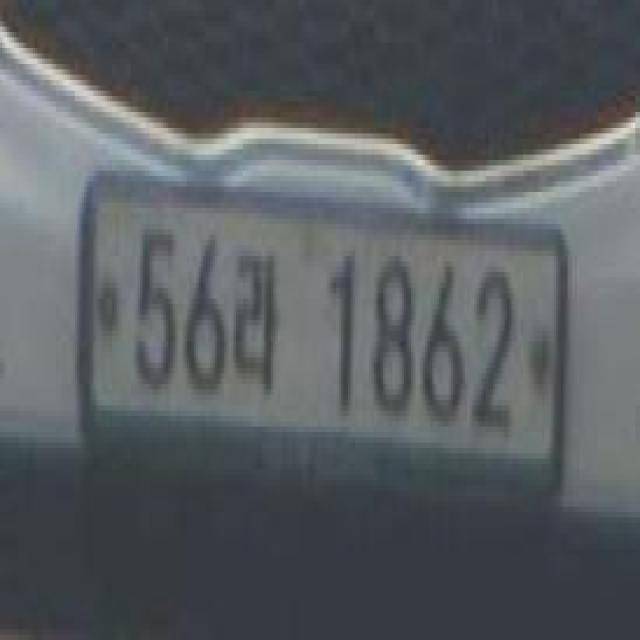illegal_plate: (85, 169, 568, 509)
